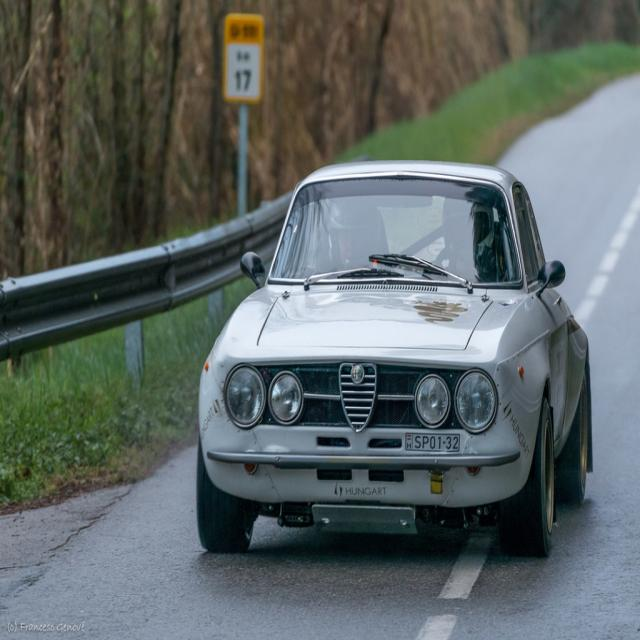car: (190, 162, 589, 558)
